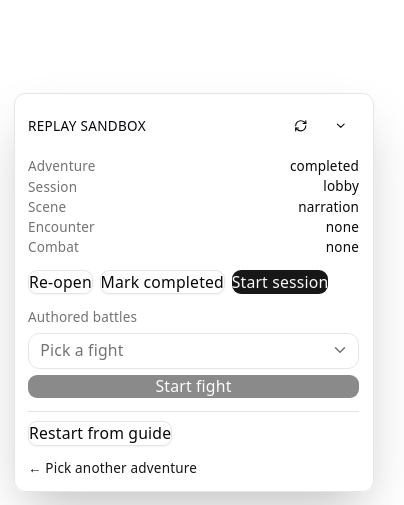
Test case: ReplayDevPanel › flags a reconstructed baseline as approximate
This screenshot has width=404, height=505.
Click the button "Restart from guide": (100,433) [28,421,172,446]
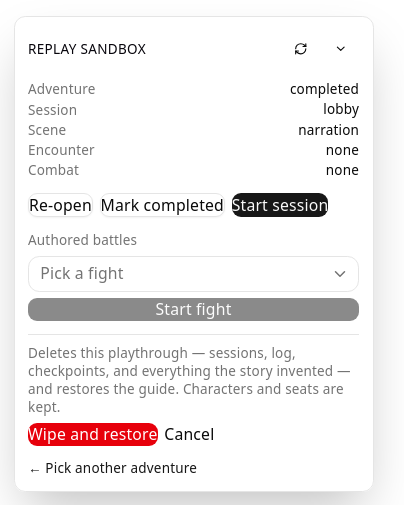
Click the button "Wipe and restore": (93,434) [28,423,158,446]
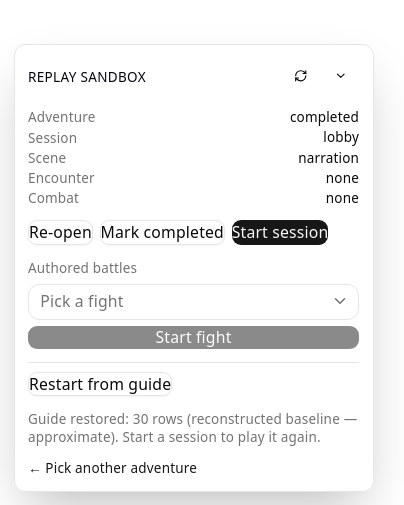
Check: the text "reconstructed baseline — approximate" is shown, box [28,410,357,446]
